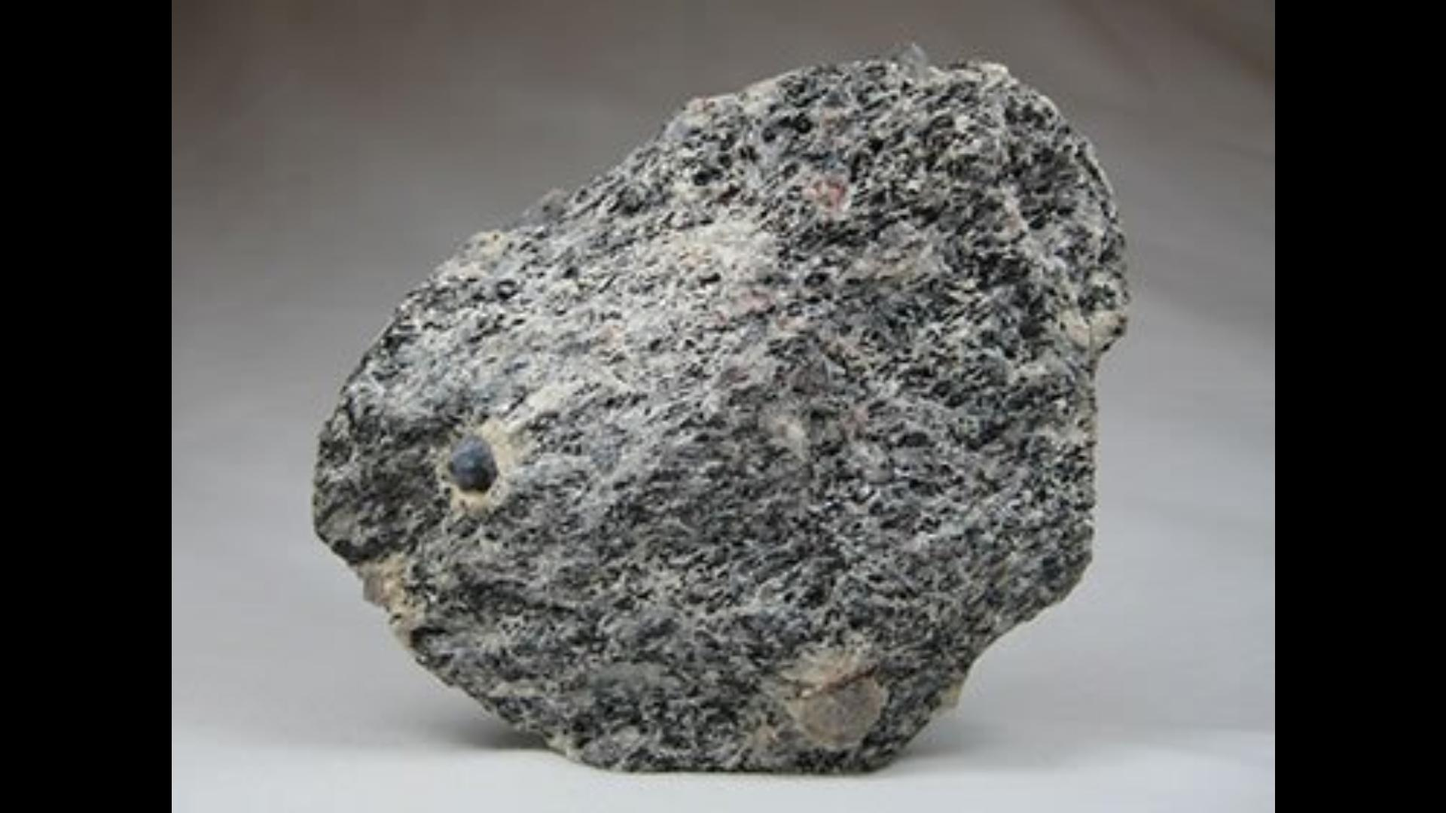rock: (319, 52, 1124, 767)
